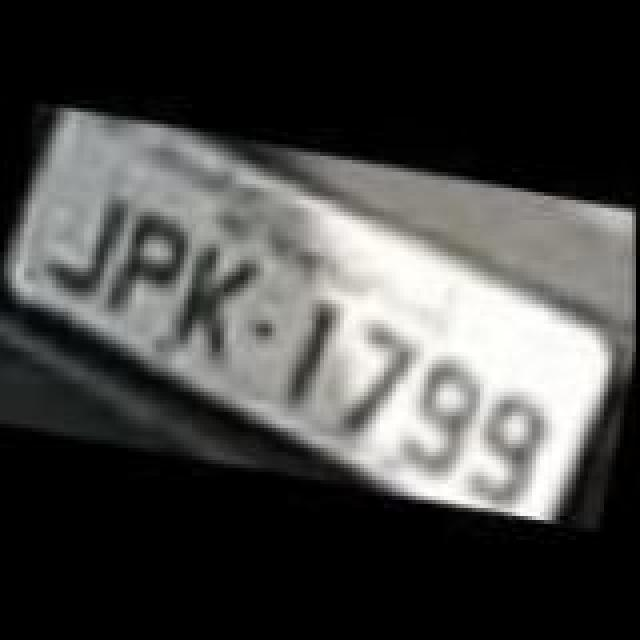1: (274, 298, 342, 414)
7: (330, 318, 426, 454)
9: (458, 378, 558, 514), (392, 348, 492, 484)
J: (34, 180, 134, 304)
K: (158, 242, 266, 366)
P: (94, 214, 194, 334)
